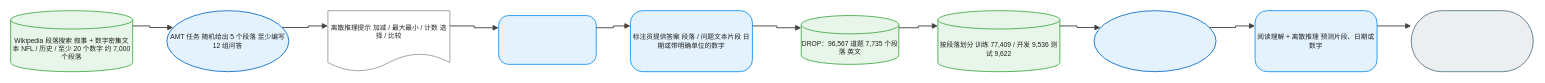
This 1545x83 diagram has some shape labels left out. Here are the shapes that lost their labels. From the top down, the centre of each, then its label:
At point 547,40: "实时 BiDAF 门 仅模型答错时可提交".
At point 1154,41: "开发 / 测试验证 至少 2 个附加答案 移除 0.7% 无效题 Cohen's κ = 0.74".
At point 1472,41: "归一化精确匹配 数值敏感宏平均 F1 对齐多片段；多答案取最大".
